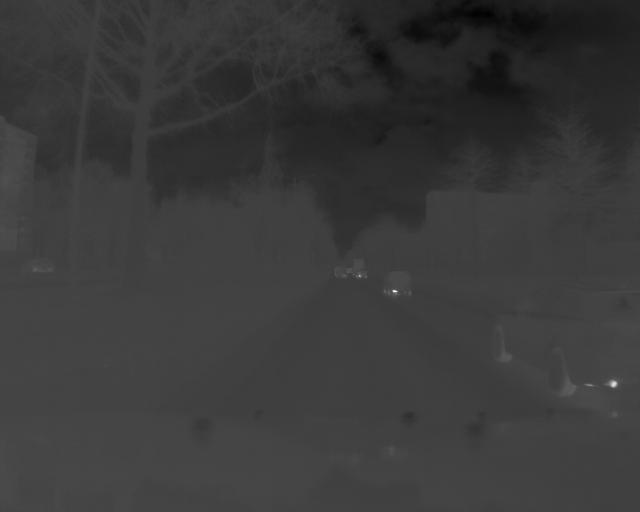car: (492, 279, 640, 398), (381, 269, 414, 296)
